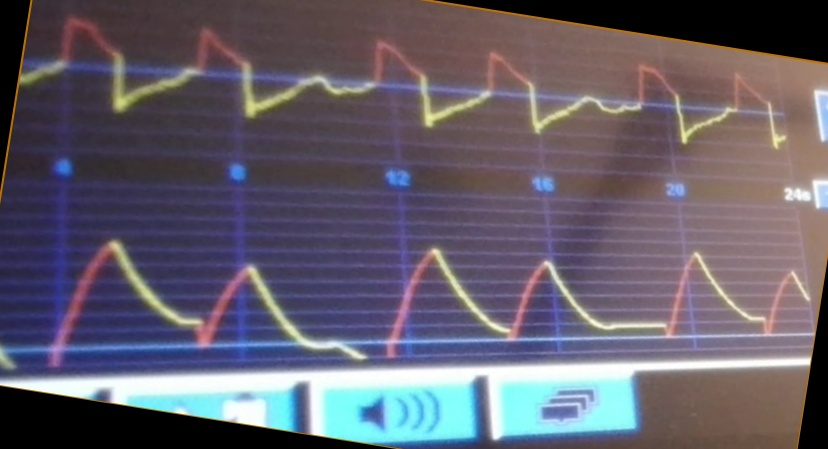Ineffective_effort Flow: (28, 13, 789, 150)
Ineffective_effort Volume: (40, 228, 809, 360)
